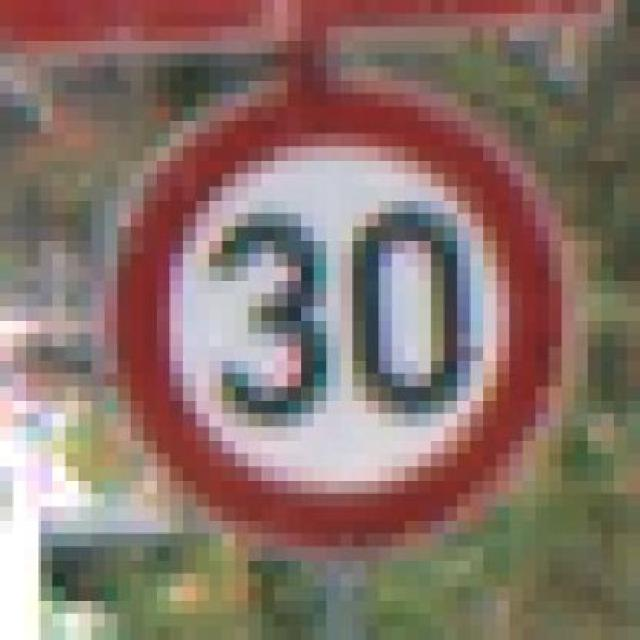forb_speed_over_30: (119, 86, 564, 551)
